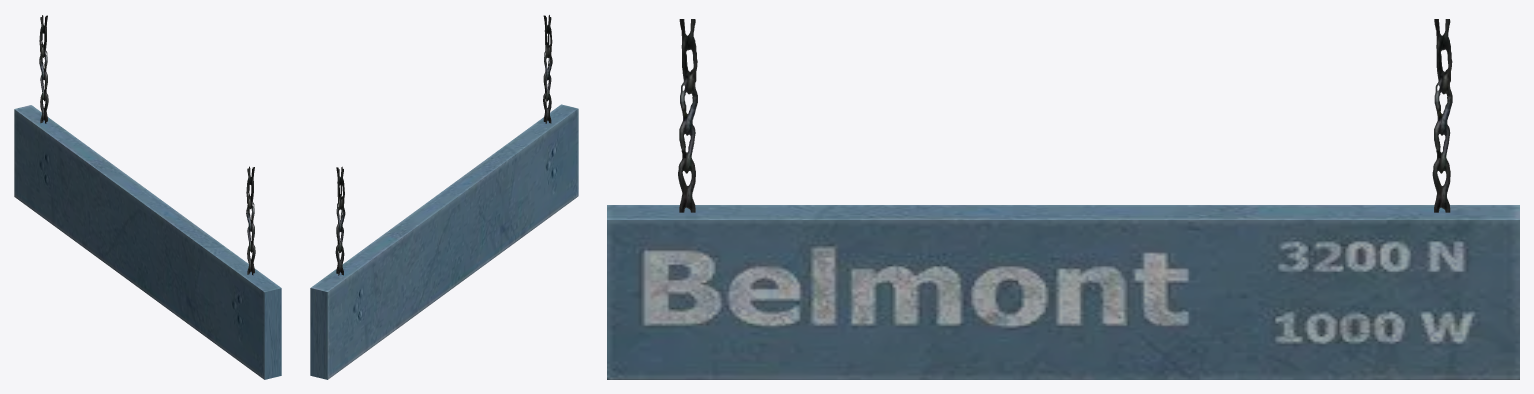
Rendered from chaintrainstationsign.glb.
The picture shows the model from 3 angles, left to right: view 1: azimuth 30°, elevation 25°; view 2: azimuth 150°, elevation 25°; view 3: azimuth 270°, elevation 25°; orthographic projection. The views are drawn at different scales.
Parts seen in each view (by area): view 1: 0_TrainStationSign, 1_Chain; view 2: 0_TrainStationSign, 1_Chain; view 3: 0_TrainStationSign, 1_Chain.
Boxes of the visible parts, left/top/right/bottom form: 0_TrainStationSign: left=14, top=105, right=281, bottom=379; 1_Chain: left=39, top=15, right=255, bottom=275; 0_TrainStationSign: left=310, top=104, right=578, bottom=379; 1_Chain: left=335, top=15, right=552, bottom=275; 0_TrainStationSign: left=607, top=205, right=1519, bottom=379; 1_Chain: left=678, top=19, right=1452, bottom=212.
Size of the model in its own units: 0.1185 by 1.28 by 2.99.
2 materials, 2 textured.
